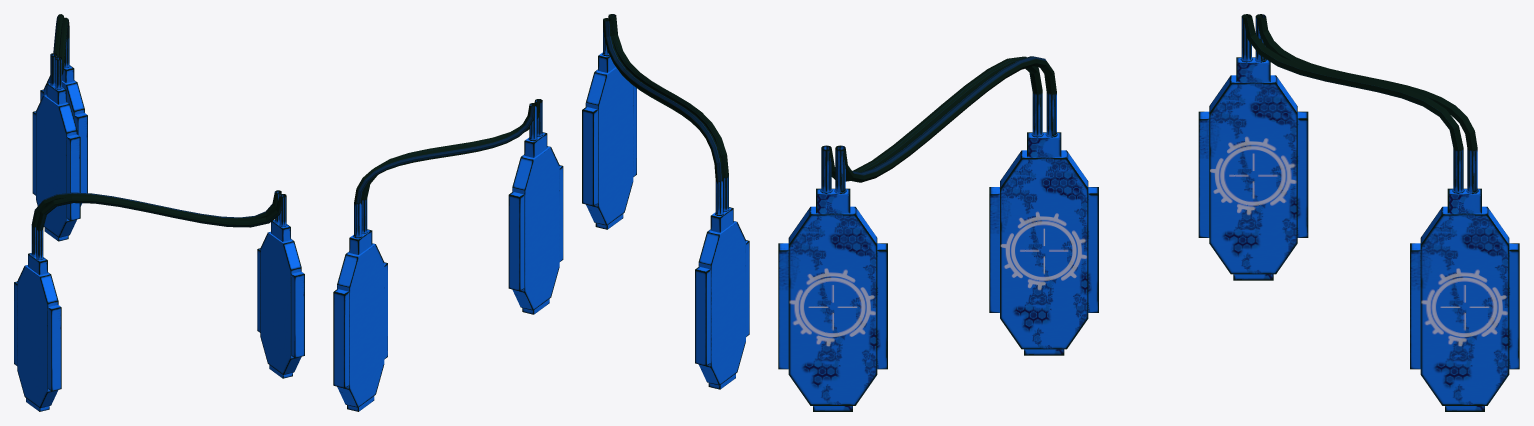
The model's file is Aim_Board_Scene.fbx.
3 renders of one model, left to right at view 1: azimuth 30°, elevation 25°; view 2: azimuth 150°, elevation 25°; view 3: azimuth 270°, elevation 25°, orthographic. The views are drawn at different scales.
Parts seen in each view (by area): view 1: Circle.001; view 2: Circle.001; view 3: Circle.001.
Part boxes in pixels (x1,y1,x2,y2): Circle.001: (14,14,304,411); Circle.001: (333,14,749,411); Circle.001: (778,14,1519,411).
Size of the model in its own units: 437 by 631 by 1059.
Materials: 1 (1 with a texture image).
